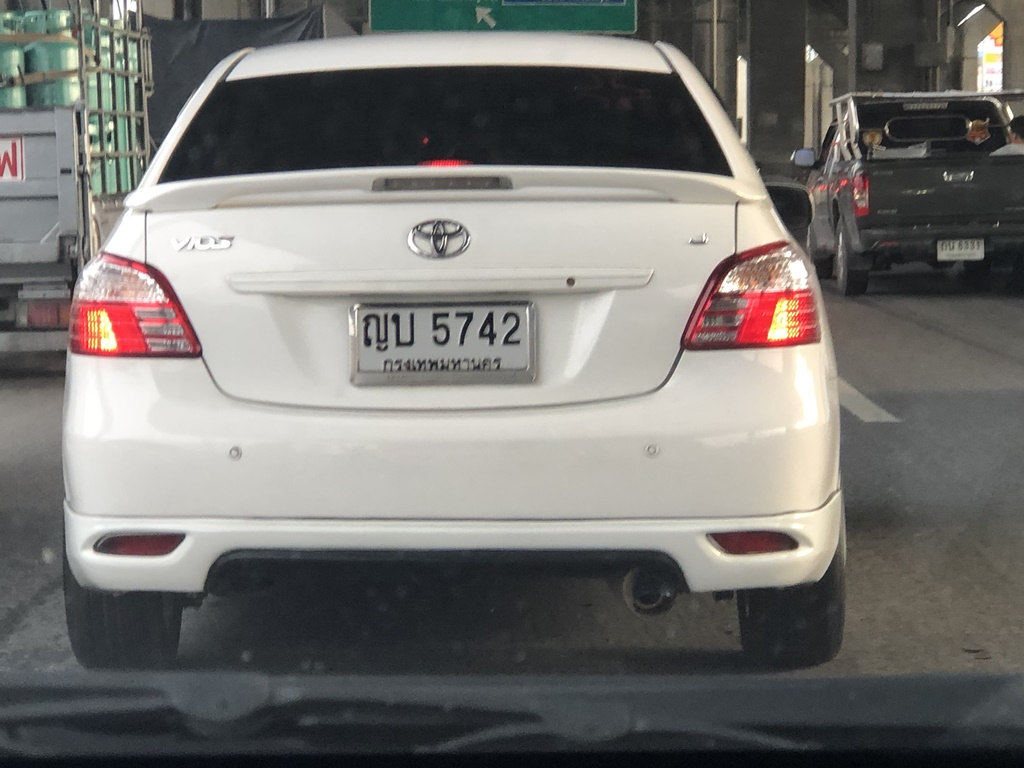two: (493, 300, 525, 359)
